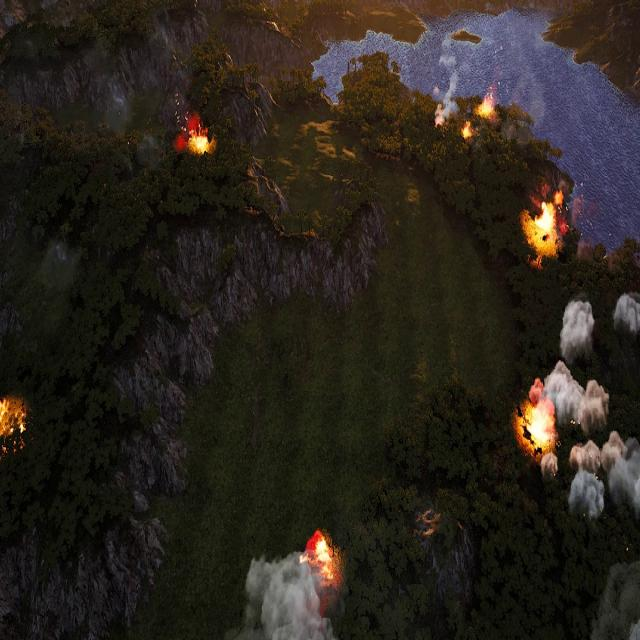fire: (303, 528, 340, 590), (528, 193, 564, 254), (523, 394, 556, 451), (0, 392, 27, 446), (179, 121, 211, 156), (481, 96, 495, 120), (432, 108, 447, 130), (461, 123, 472, 139)
smoke: (530, 288, 640, 522), (239, 548, 335, 640), (431, 34, 467, 116)
